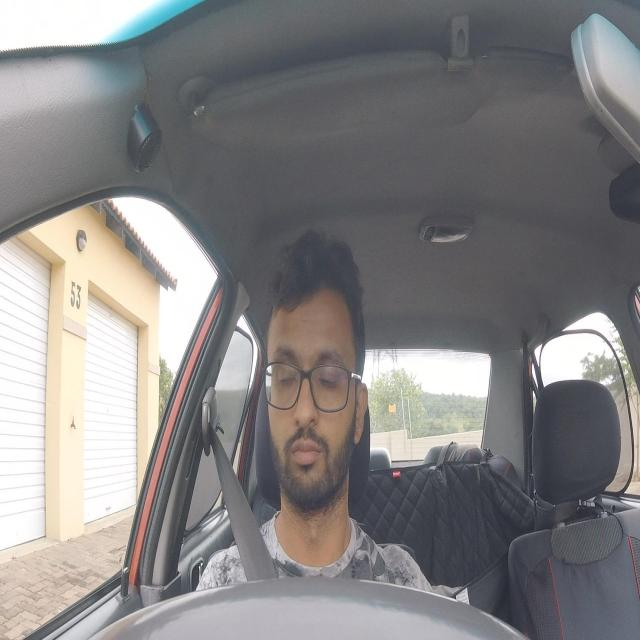close: (266, 346, 302, 393), (315, 346, 345, 394)
